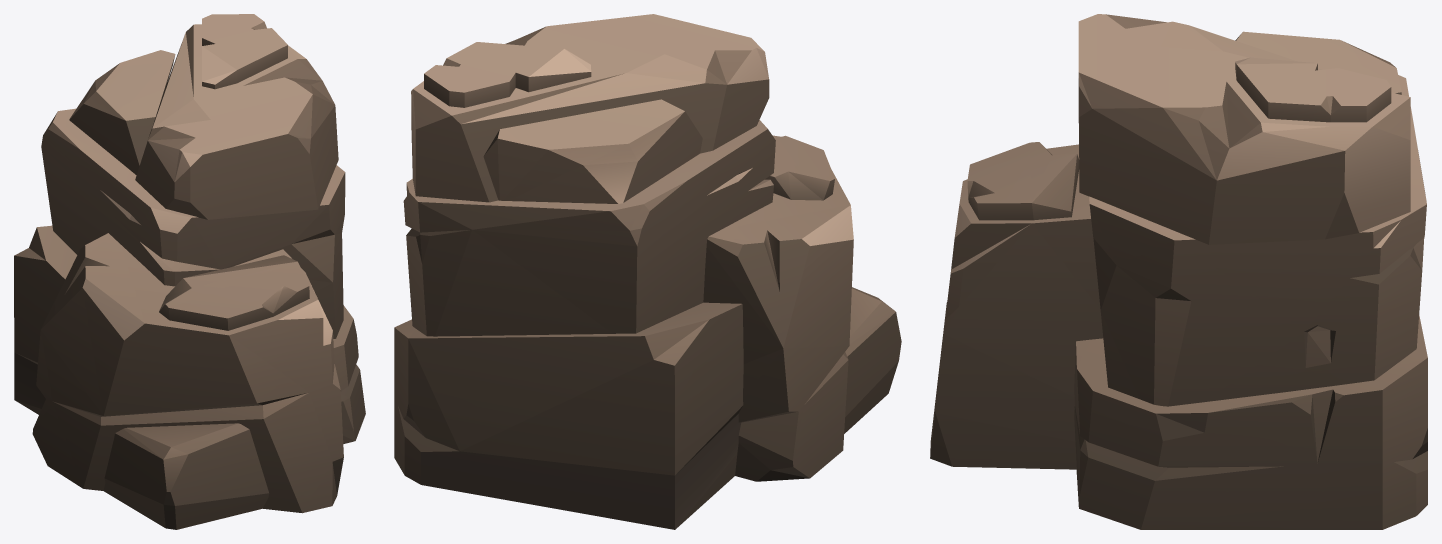
File: Rock_Large_1B.fbx
The picture shows the model from 3 angles, left to right: view 1: azimuth 30°, elevation 25°; view 2: azimuth 150°, elevation 25°; view 3: azimuth 270°, elevation 25°; orthographic projection. The views are drawn at different scales.
Visible parts, largest first — view 1: Rock_Large_1B; view 2: Rock_Large_1B; view 3: Rock_Large_1B.
Boxes of the visible parts, x1,y1,x2,y2 form: Rock_Large_1B: [14, 14, 365, 529]; Rock_Large_1B: [394, 14, 901, 529]; Rock_Large_1B: [930, 14, 1427, 529].
Bounding box in the file's own units: 2.84 × 3.12 × 3.42.
